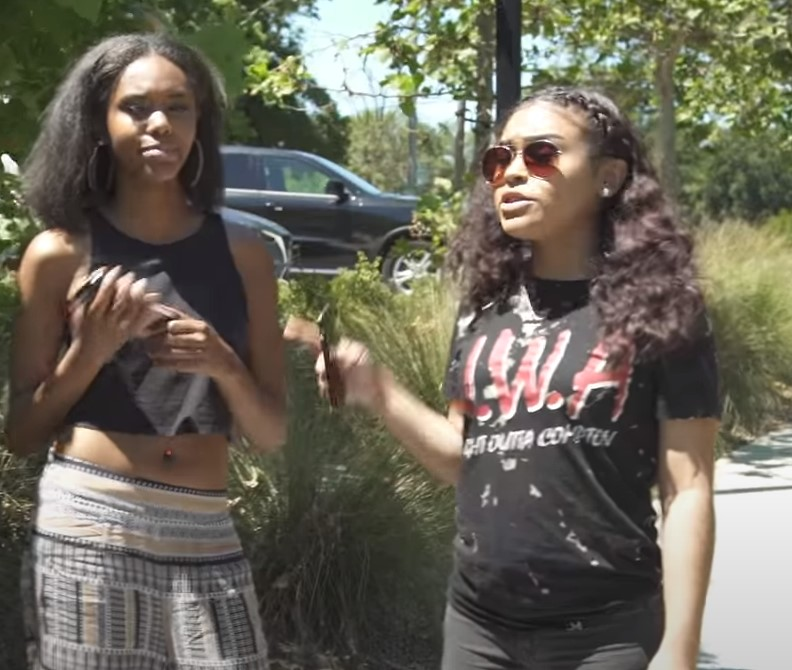face_no_mask: (90, 31, 218, 183), (485, 91, 614, 241)
